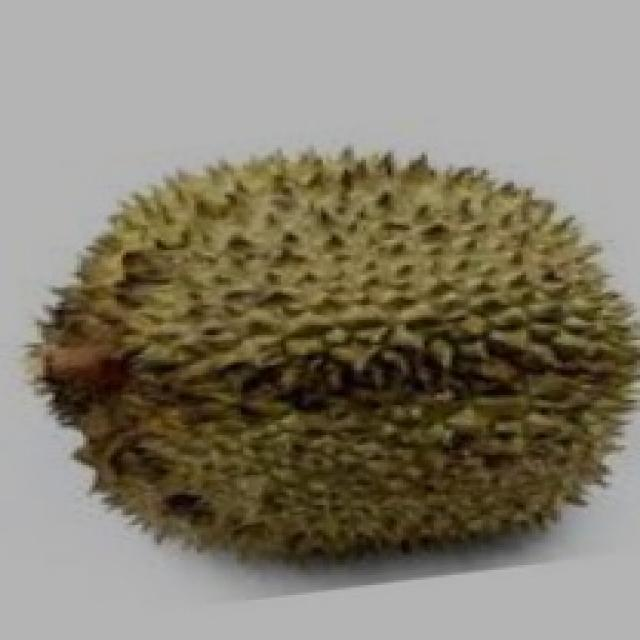fruit: (261, 152, 640, 602), (3, 192, 382, 632)
